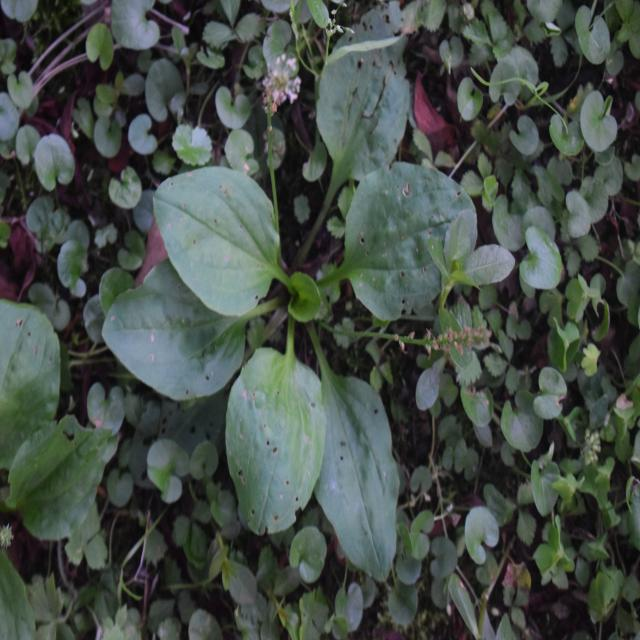plantain: (102, 72, 471, 525)
